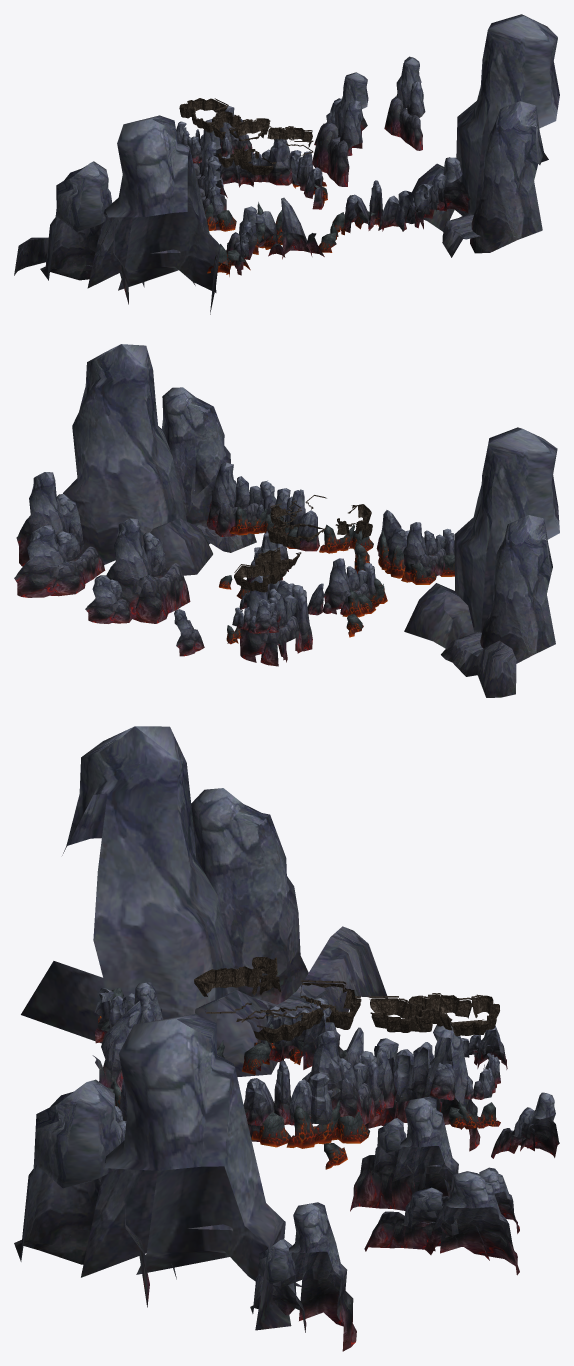
File: first battle_01_stone_01.FBX
3 views of the same model, one above another, from view 1: azimuth 30°, elevation 25°; view 2: azimuth 150°, elevation 25°; view 3: azimuth 270°, elevation 25° (orthographic). The views are drawn at different scales.
Visible parts, largest first — view 1: S1; view 2: S1; view 3: S1.
Part boxes in pixels (left/top/right/bottom): S1: left=14, top=14, right=559, bottom=314; S1: left=14, top=344, right=559, bottom=697; S1: left=14, top=726, right=559, bottom=1351.
Bounding box in the file's own units: 308 × 117 × 185.
Materials: 1 (1 with a texture image).
